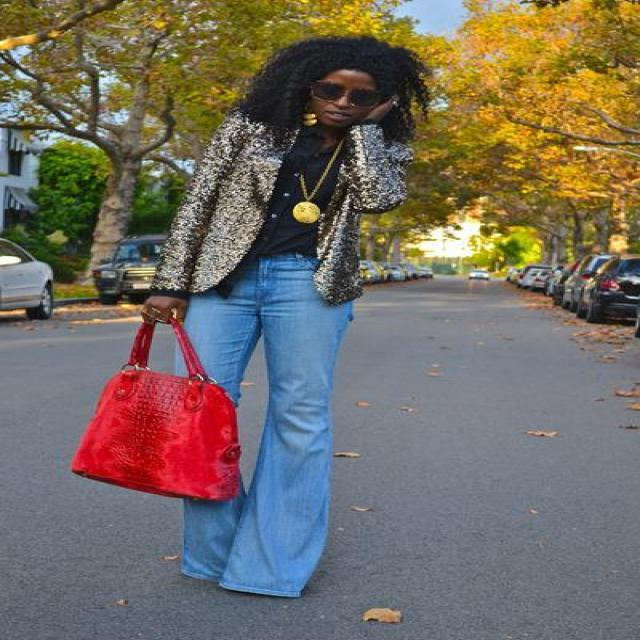bag: (72, 324, 238, 498)
jacket: (125, 115, 416, 308)
pants: (173, 254, 352, 595)
shirt: (233, 124, 369, 277)
sunglass: (342, 74, 390, 106)
